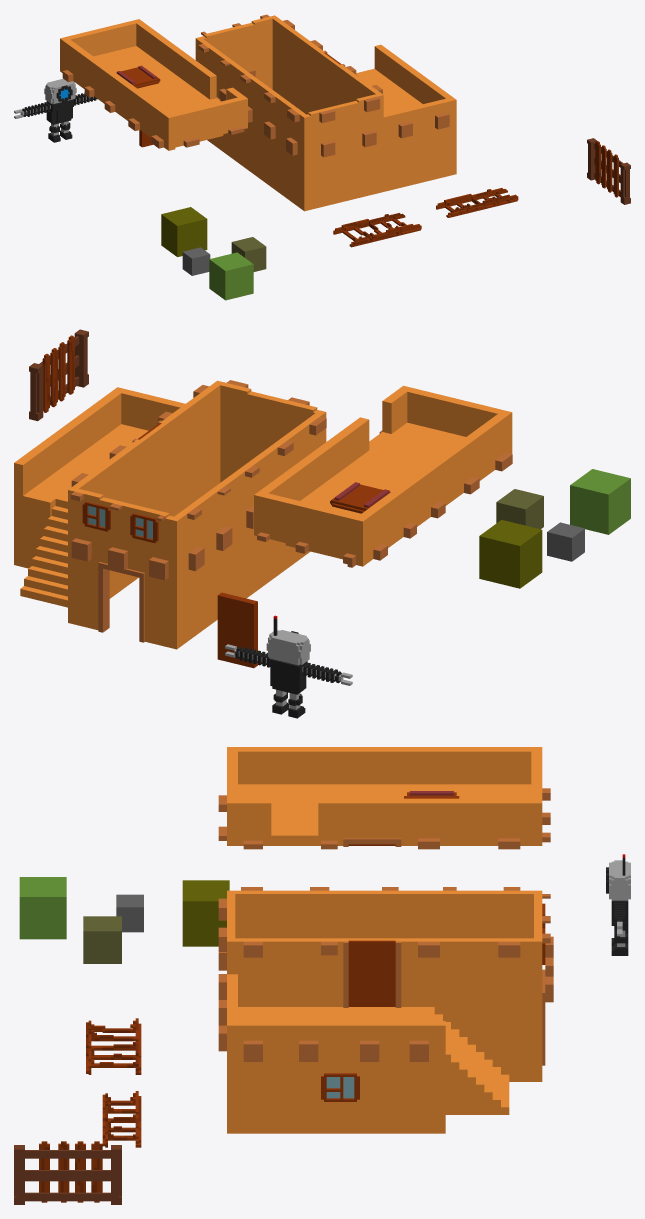
File: Robot_vox-1-7.obj
3 views of the same model, one above another, from view 1: azimuth 30°, elevation 25°; view 2: azimuth 150°, elevation 25°; view 3: azimuth 270°, elevation 25° (orthographic). The views are drawn at different scales.
Size of the model in its own units: 24.6 by 7.3 by 22.3.
Materials: 1 (1 with a texture image).
